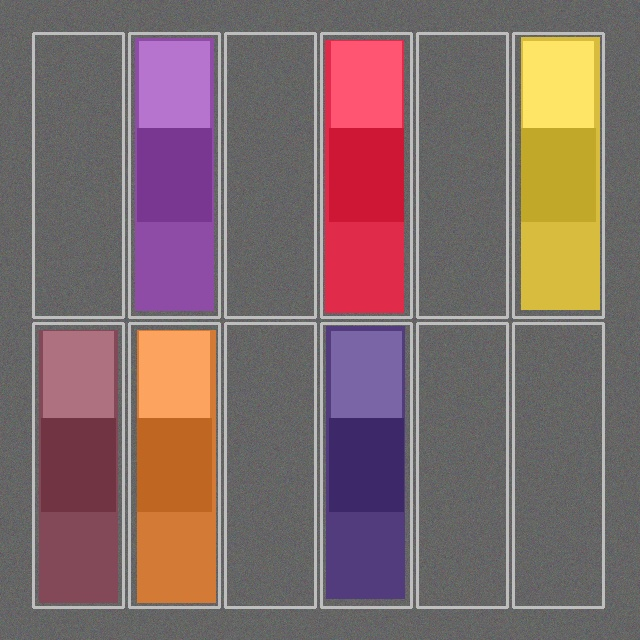space-empty: (35, 35, 121, 315), (227, 35, 313, 315), (419, 35, 505, 315), (227, 325, 313, 605), (419, 325, 505, 605), (515, 325, 601, 605)
space-occupied: (131, 35, 217, 315), (323, 35, 409, 315), (515, 35, 601, 315), (35, 325, 121, 605), (131, 325, 217, 605), (323, 325, 409, 605)
